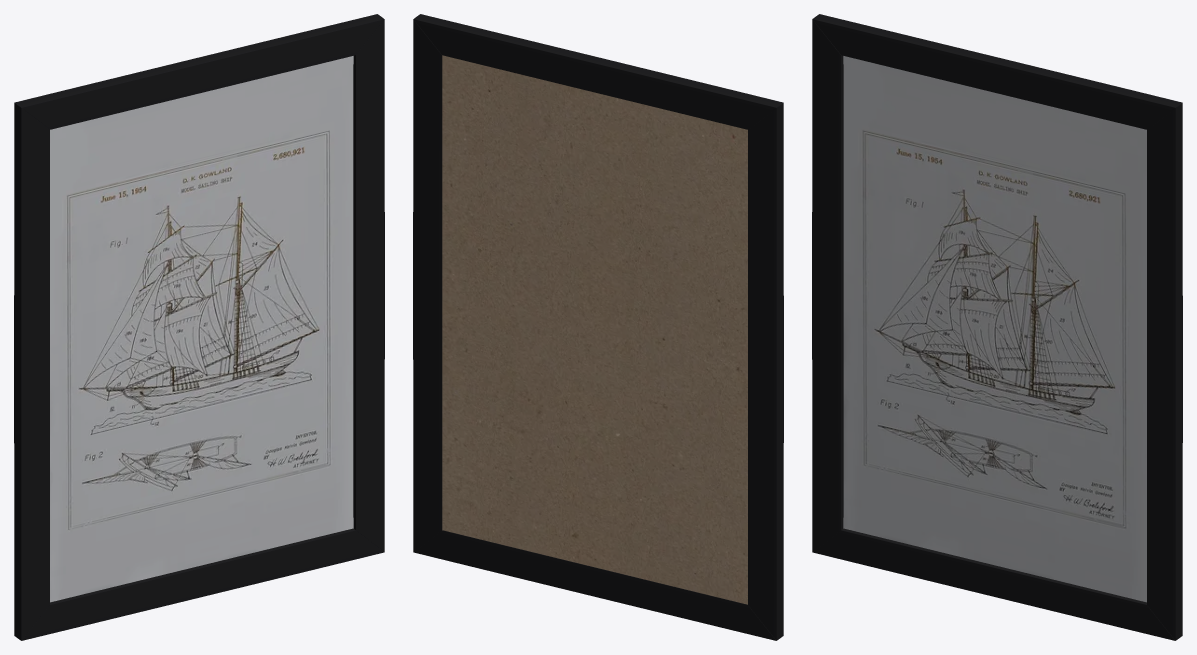
File: abo-B073NZT5JX.glb
The picture shows the model from 3 angles, left to right: view 1: azimuth 30°, elevation 25°; view 2: azimuth 150°, elevation 25°; view 3: azimuth 330°, elevation 25°; orthographic projection.
Bounding box in the file's own units: 0.381 × 0.534 × 0.013.
Materials: 1 (1 with a texture image).
